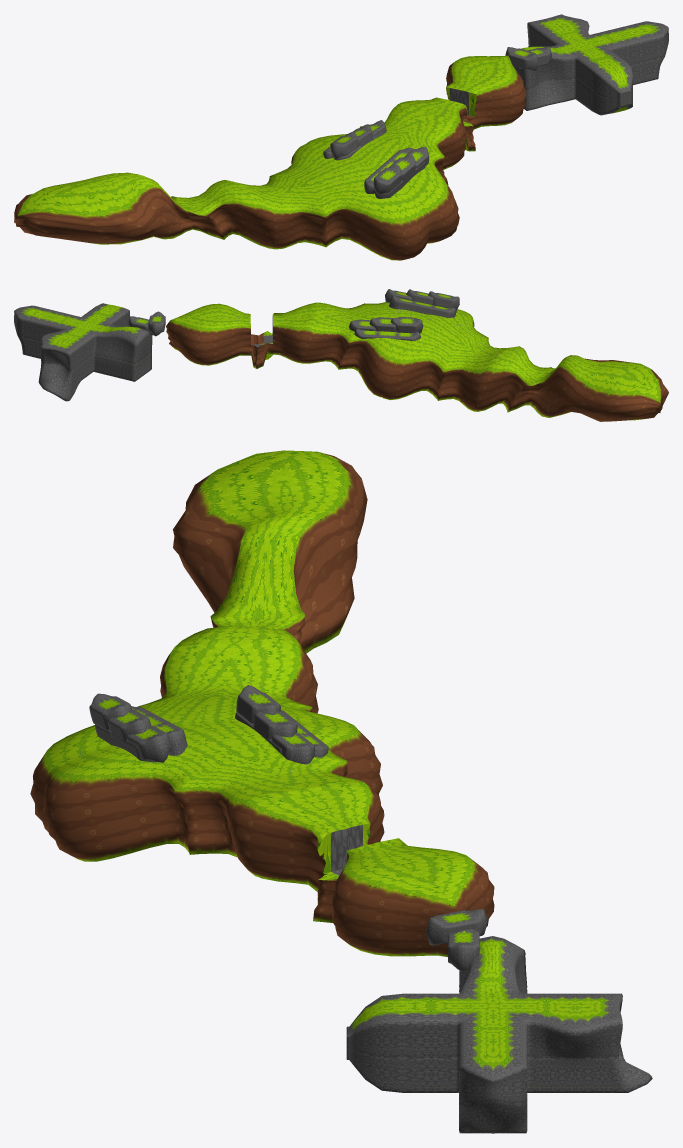
File: EscenarioNivel1.FBX
3 renders of one model, top to bottom at view 1: azimuth 30°, elevation 25°; view 2: azimuth 150°, elevation 25°; view 3: azimuth 270°, elevation 25°, orthographic. The views are drawn at different scales.
Parts seen in each view (by area): view 1: Object005, Object001, Object010, Object011, Object003; view 2: Object005, Object001, Object010, Object011, Object003, Object002; view 3: Object005, Object001, Object010, Object011, Object003, Object002.
Part boxes in pixels (box(x1,y1,x2,y2)): Object005: box(14, 55, 526, 260); Object001: box(513, 14, 668, 115); Object010: box(364, 146, 429, 198); Object011: box(323, 120, 386, 160); Object003: box(505, 47, 538, 70); Object005: box(166, 302, 668, 421); Object001: box(14, 303, 152, 401); Object010: box(385, 289, 459, 317); Object011: box(348, 317, 423, 346); Object003: box(148, 311, 165, 336); Object002: box(128, 316, 152, 335); Object005: box(30, 450, 494, 956); Object001: box(346, 936, 652, 1133); Object010: box(89, 693, 187, 762); Object011: box(235, 685, 328, 764); Object003: box(426, 909, 487, 945); Object002: box(448, 929, 479, 971).
Size of the model in its own units: 1916 by 247 by 857.
